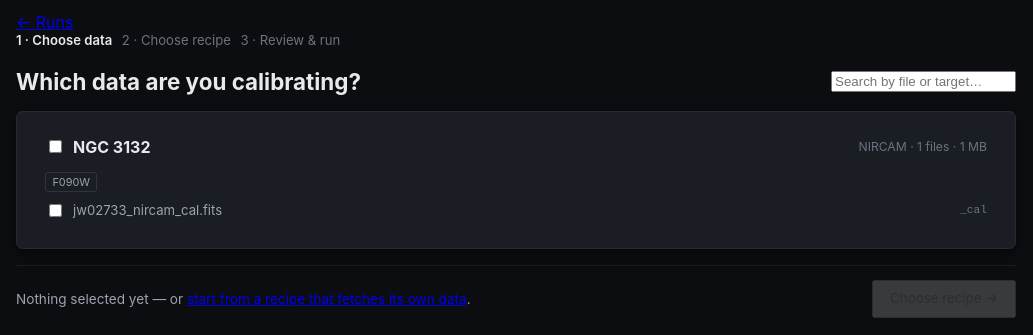
Test: CalibrateNew › drops the hint once files are selected
Check: the text "NGC 3132" is shown, box [73,137,150,157]
Step 1. Click the checkbox named "Select all in NGC 3132" → (56, 147), box [49,140,62,153]
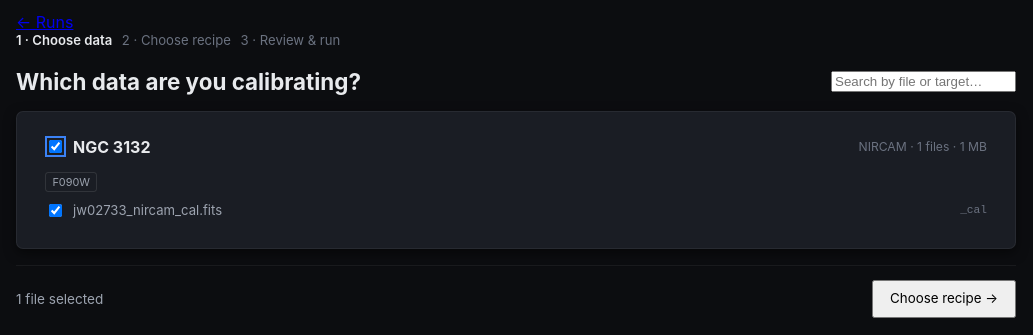
Check: the text "Nothing selected yet" is gone
Check: the link "start from a recipe" is gone
